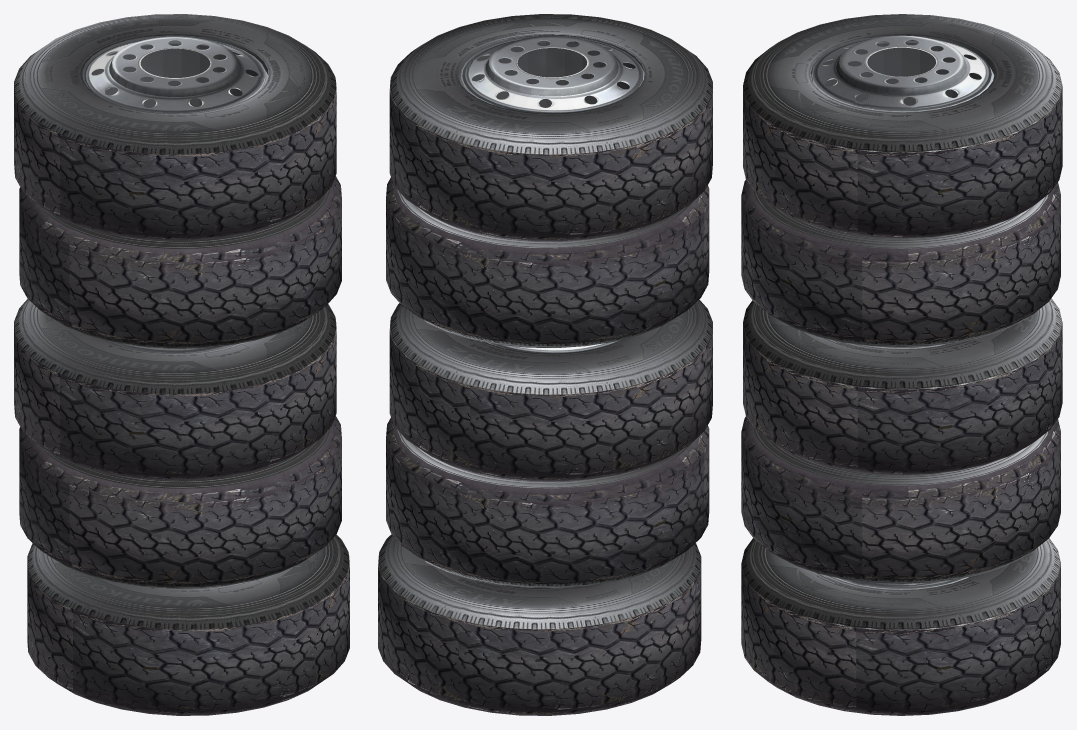
Rendered from PROP_TruckTireStack.glb.
The picture shows the model from 3 angles, left to right: view 1: azimuth 30°, elevation 25°; view 2: azimuth 150°, elevation 25°; view 3: azimuth 270°, elevation 25°; orthographic projection.
Visible parts, largest first — view 1: Cylinder.001, Cylinder.003, Cylinder.007, Cylinder.002, Cylinder.009; view 2: Cylinder.001, Cylinder.003, Cylinder.007, Cylinder.009, Cylinder.002; view 3: Cylinder.001, Cylinder.007, Cylinder.003, Cylinder.002, Cylinder.009.
Boxes of the visible parts, box(x1,y1,x2,y2) form: Cylinder.001: box(14, 14, 336, 240); Cylinder.003: box(14, 299, 336, 480); Cylinder.007: box(27, 534, 349, 715); Cylinder.002: box(19, 176, 341, 348); Cylinder.009: box(19, 416, 341, 588); Cylinder.001: box(389, 14, 712, 241); Cylinder.003: box(389, 299, 712, 481); Cylinder.007: box(378, 534, 701, 715); Cylinder.009: box(386, 417, 709, 588); Cylinder.002: box(386, 177, 709, 347); Cylinder.001: box(743, 14, 1062, 238); Cylinder.007: box(741, 538, 1060, 715); Cylinder.003: box(743, 298, 1062, 475); Cylinder.002: box(741, 180, 1060, 347); Cylinder.009: box(741, 416, 1060, 584).
Bounding box in the file's own units: 1.04 × 2.04 × 1.
3 materials, 3 textured.
